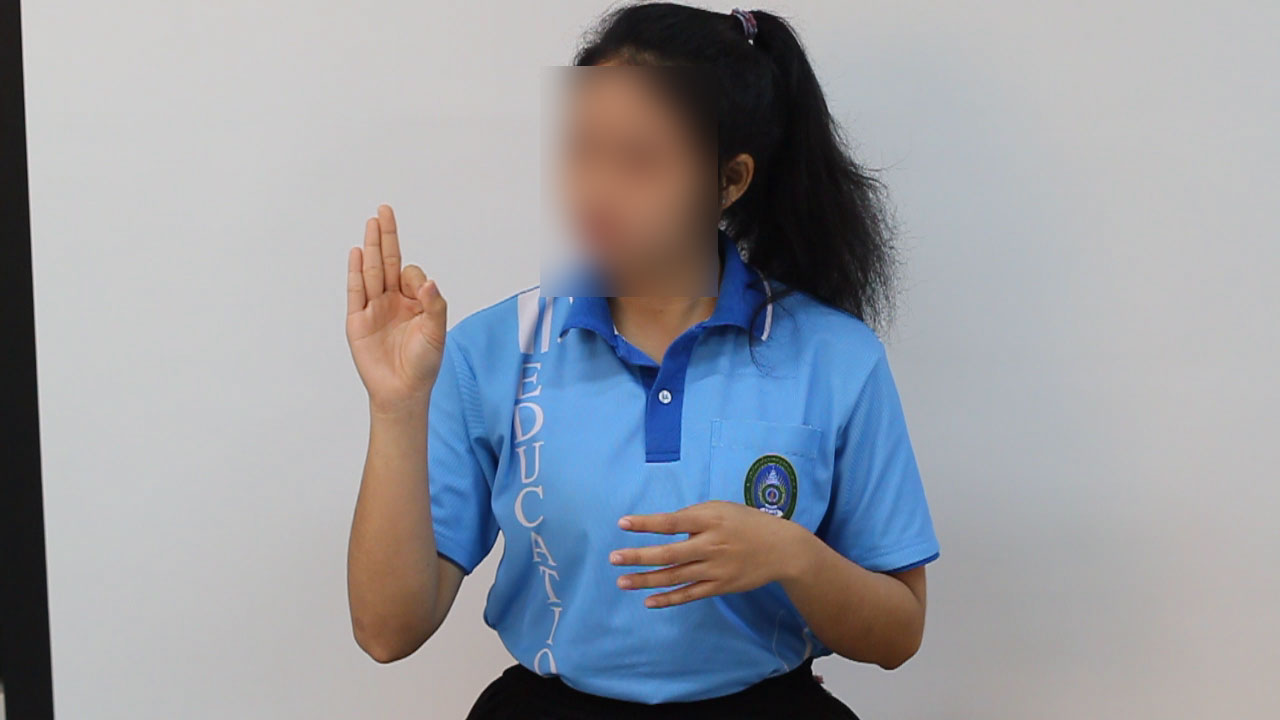for: (336, 195, 459, 423)
